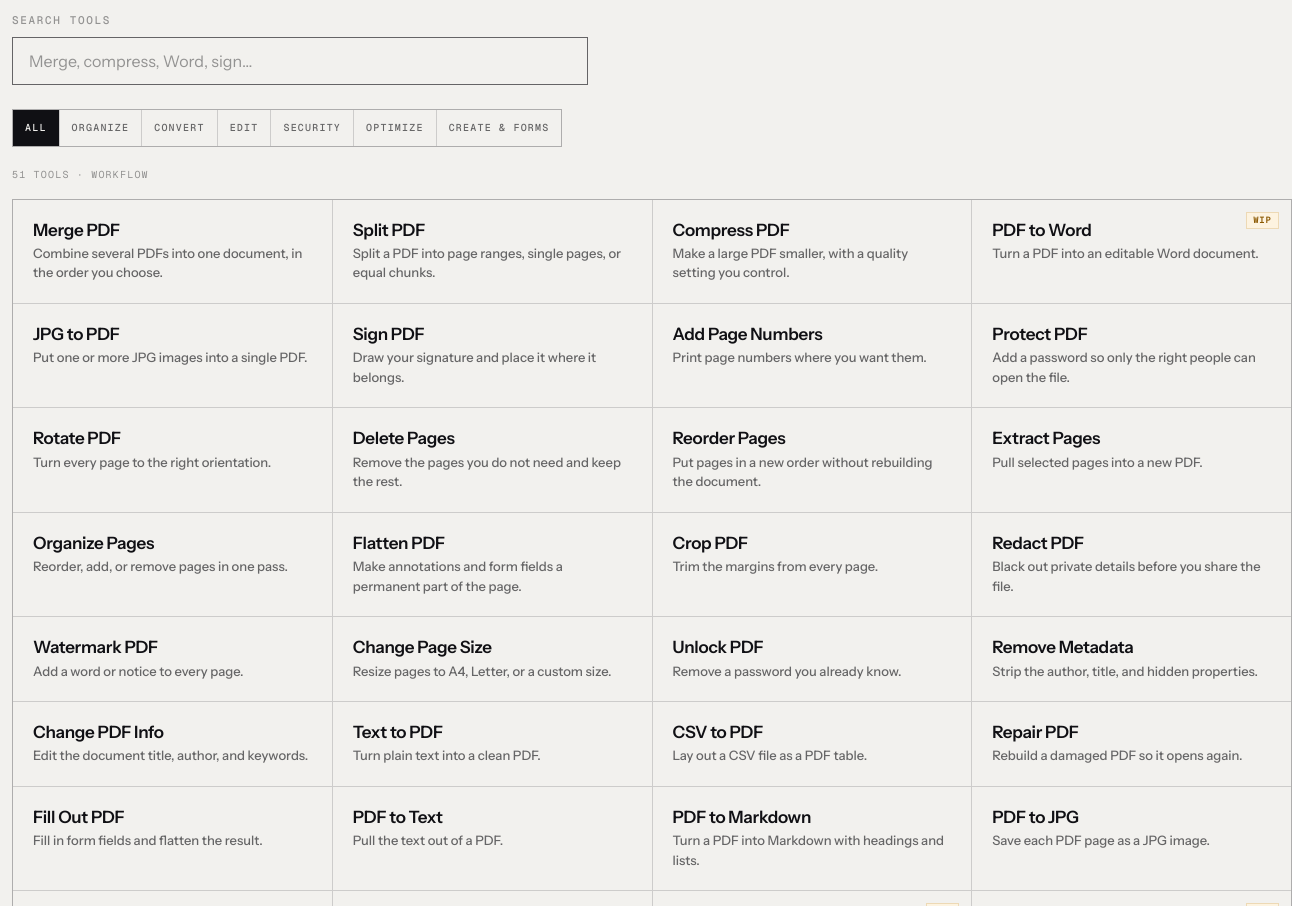
ToolsFilter › searches names and descriptions
Type "markdown" into the search field labelled "Search tools" at (300, 61), box [12,37,588,85]
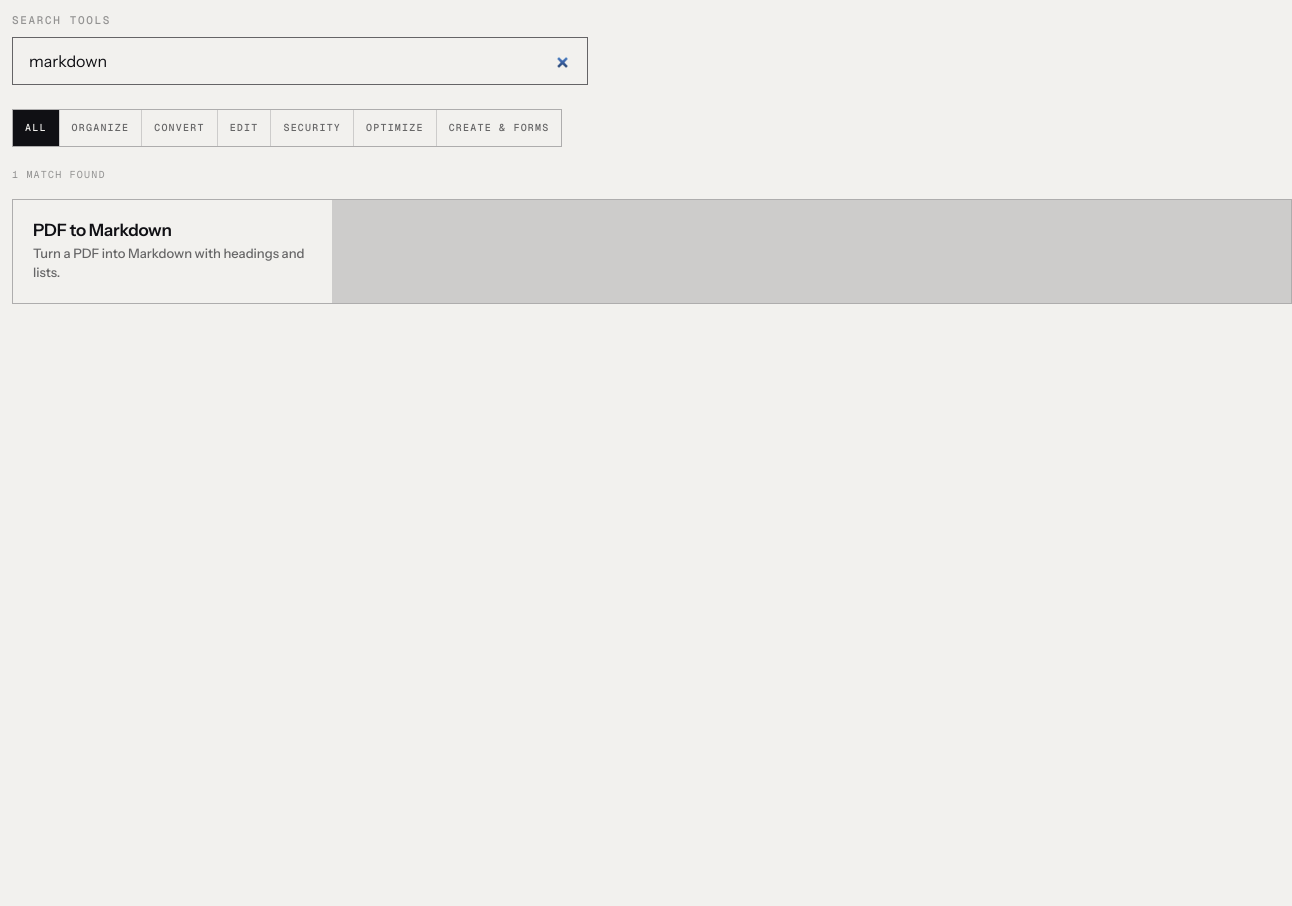
Check: the text "PDF to Markdown" is shown, box [33,220,172,240]
Check: the link "Merge PDF" is gone
